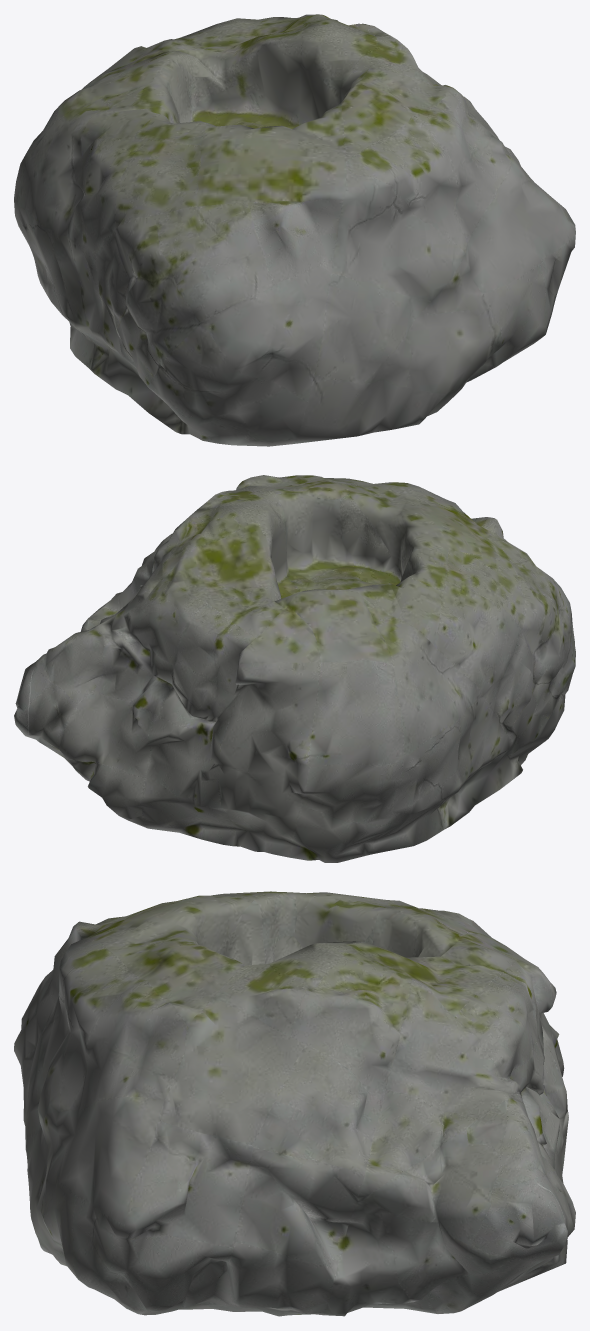
The model's file is rock.glb.
3 views of the same model, one above another, from view 1: azimuth 30°, elevation 25°; view 2: azimuth 150°, elevation 25°; view 3: azimuth 270°, elevation 25° (orthographic). The views are drawn at different scales.
Bounding box in the file's own units: 1.85 × 1.2 × 1.9.
Materials: 1 (1 with a texture image).
